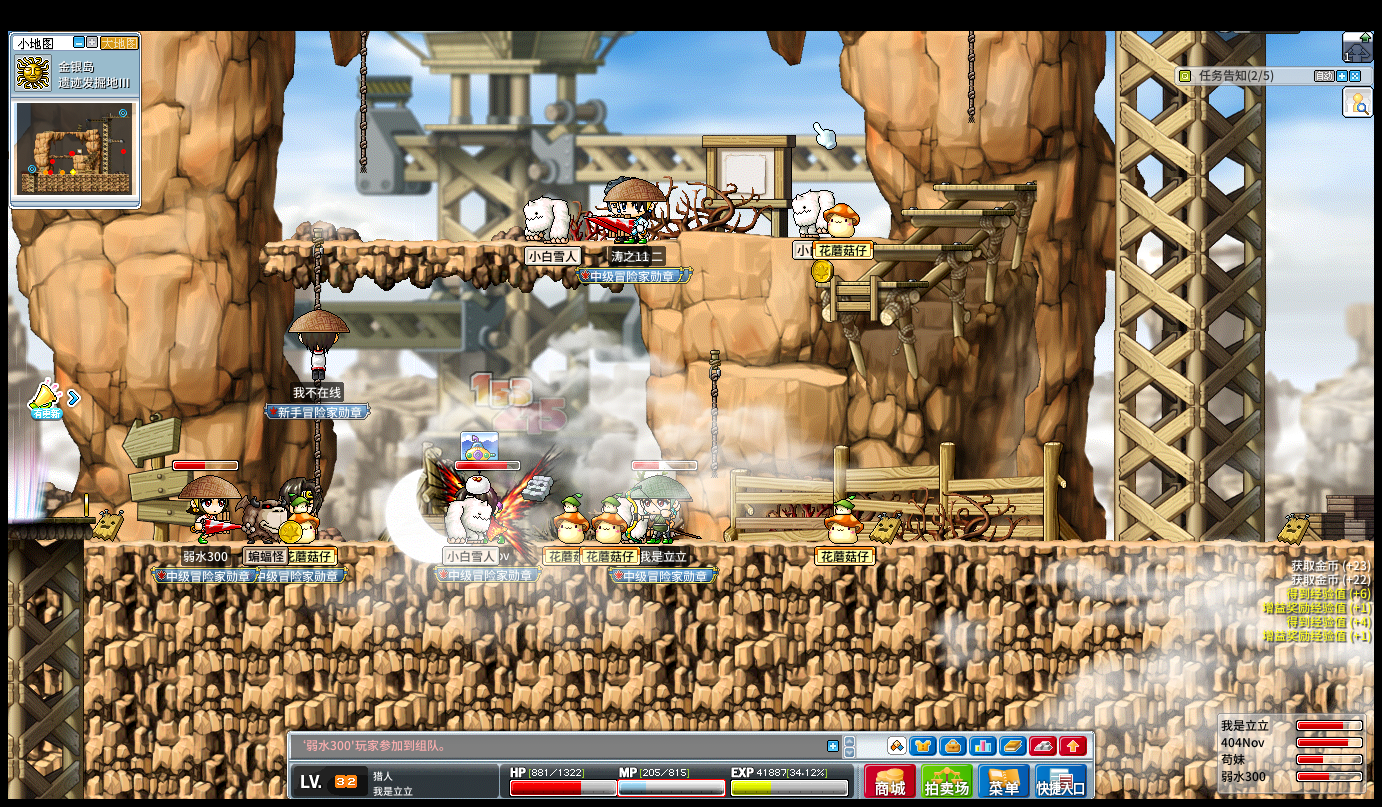floor: (263, 238, 653, 248), (739, 364, 847, 385), (811, 280, 924, 291), (809, 279, 926, 288), (862, 243, 970, 251), (900, 207, 1011, 214), (931, 184, 1033, 191), (8, 515, 95, 523)
rope: (705, 349, 719, 483), (357, 30, 367, 172), (308, 227, 322, 307), (966, 30, 976, 120), (309, 420, 320, 496)
